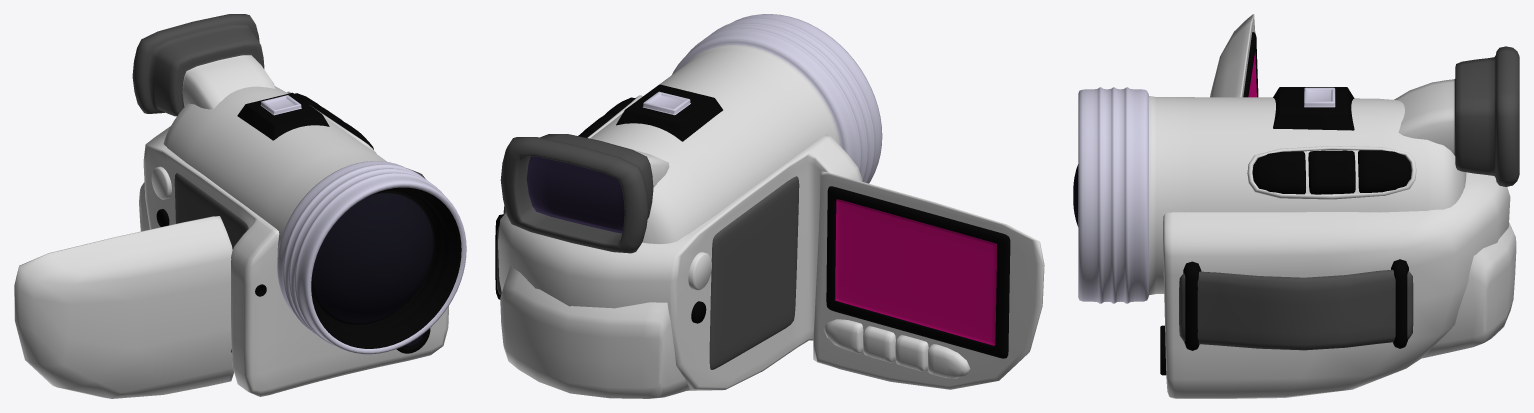
Rendered from camera.fbx.
3 views of the same model, side by side, from view 1: azimuth 30°, elevation 25°; view 2: azimuth 150°, elevation 25°; view 3: azimuth 270°, elevation 25° (orthographic). The views are drawn at different scales.
Parts seen in each view (by area): view 1: Cylinder, Plane, Cube.004, Cube.001, Cube.002, Plane.002, Cylinder.004; view 2: Plane, Cylinder, Cube.004, Cube.003, Cube.001, Plane.002, Cube.002, Cylinder.004; view 3: Cylinder, Cube.004, Plane.001, Cube.001, Cube.003, Cube.002, Plane.
Part boxes in pixels (bbox=[...]): Cylinder: bbox=[163, 86, 466, 354]; Plane: bbox=[14, 216, 233, 398]; Cube.004: bbox=[143, 126, 448, 396]; Cube.001: bbox=[132, 14, 275, 116]; Cube.002: bbox=[237, 92, 329, 140]; Plane.002: bbox=[174, 173, 248, 249]; Cylinder.004: bbox=[151, 166, 171, 199]; Plane: bbox=[813, 171, 1044, 389]; Cylinder: bbox=[578, 14, 882, 244]; Cube.004: bbox=[498, 135, 862, 390]; Cube.003: bbox=[500, 266, 690, 398]; Cube.001: bbox=[500, 134, 669, 253]; Plane.002: bbox=[709, 176, 799, 369]; Cube.002: bbox=[616, 84, 722, 141]; Cylinder.004: bbox=[688, 252, 711, 290]; Cylinder: bbox=[1073, 87, 1466, 303]; Cube.004: bbox=[1163, 172, 1510, 398]; Plane.001: bbox=[1179, 259, 1413, 350]; Cube.001: bbox=[1394, 46, 1519, 186]; Cube.003: bbox=[1422, 222, 1516, 358]; Cube.002: bbox=[1273, 87, 1354, 130]; Plane: bbox=[1210, 14, 1258, 97].
Bounding box in the file's own units: 31.7 × 17.66 × 24.96.
